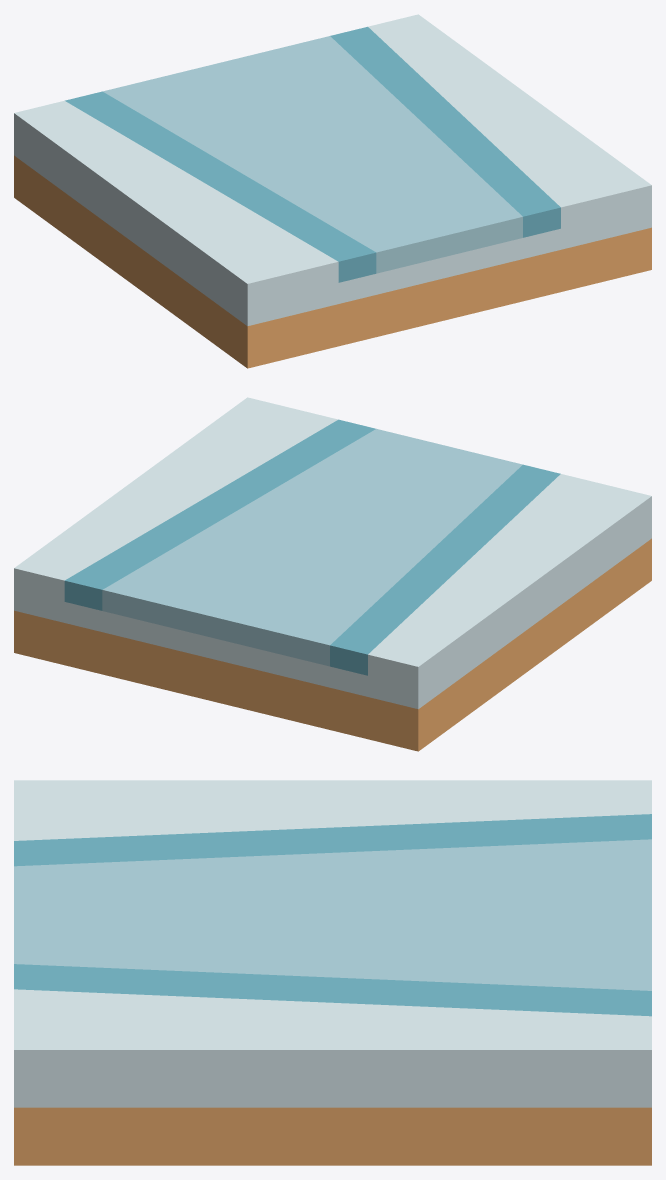
The model's file is snow_tile_transition(+).fbx.
3 renders of one model, top to bottom at view 1: azimuth 30°, elevation 25°; view 2: azimuth 150°, elevation 25°; view 3: azimuth 270°, elevation 25°, orthographic. The views are drawn at different scales.
Visible parts, largest first — view 1: Mesh_3; view 2: Mesh_3; view 3: Mesh_3.
Boxes of the visible parts, left/top/right/bottom form: Mesh_3: left=14, top=14, right=651, bottom=368; Mesh_3: left=14, top=397, right=651, bottom=751; Mesh_3: left=14, top=780, right=651, bottom=1165.
Bounding box in the file's own units: 100 × 20 × 100.
